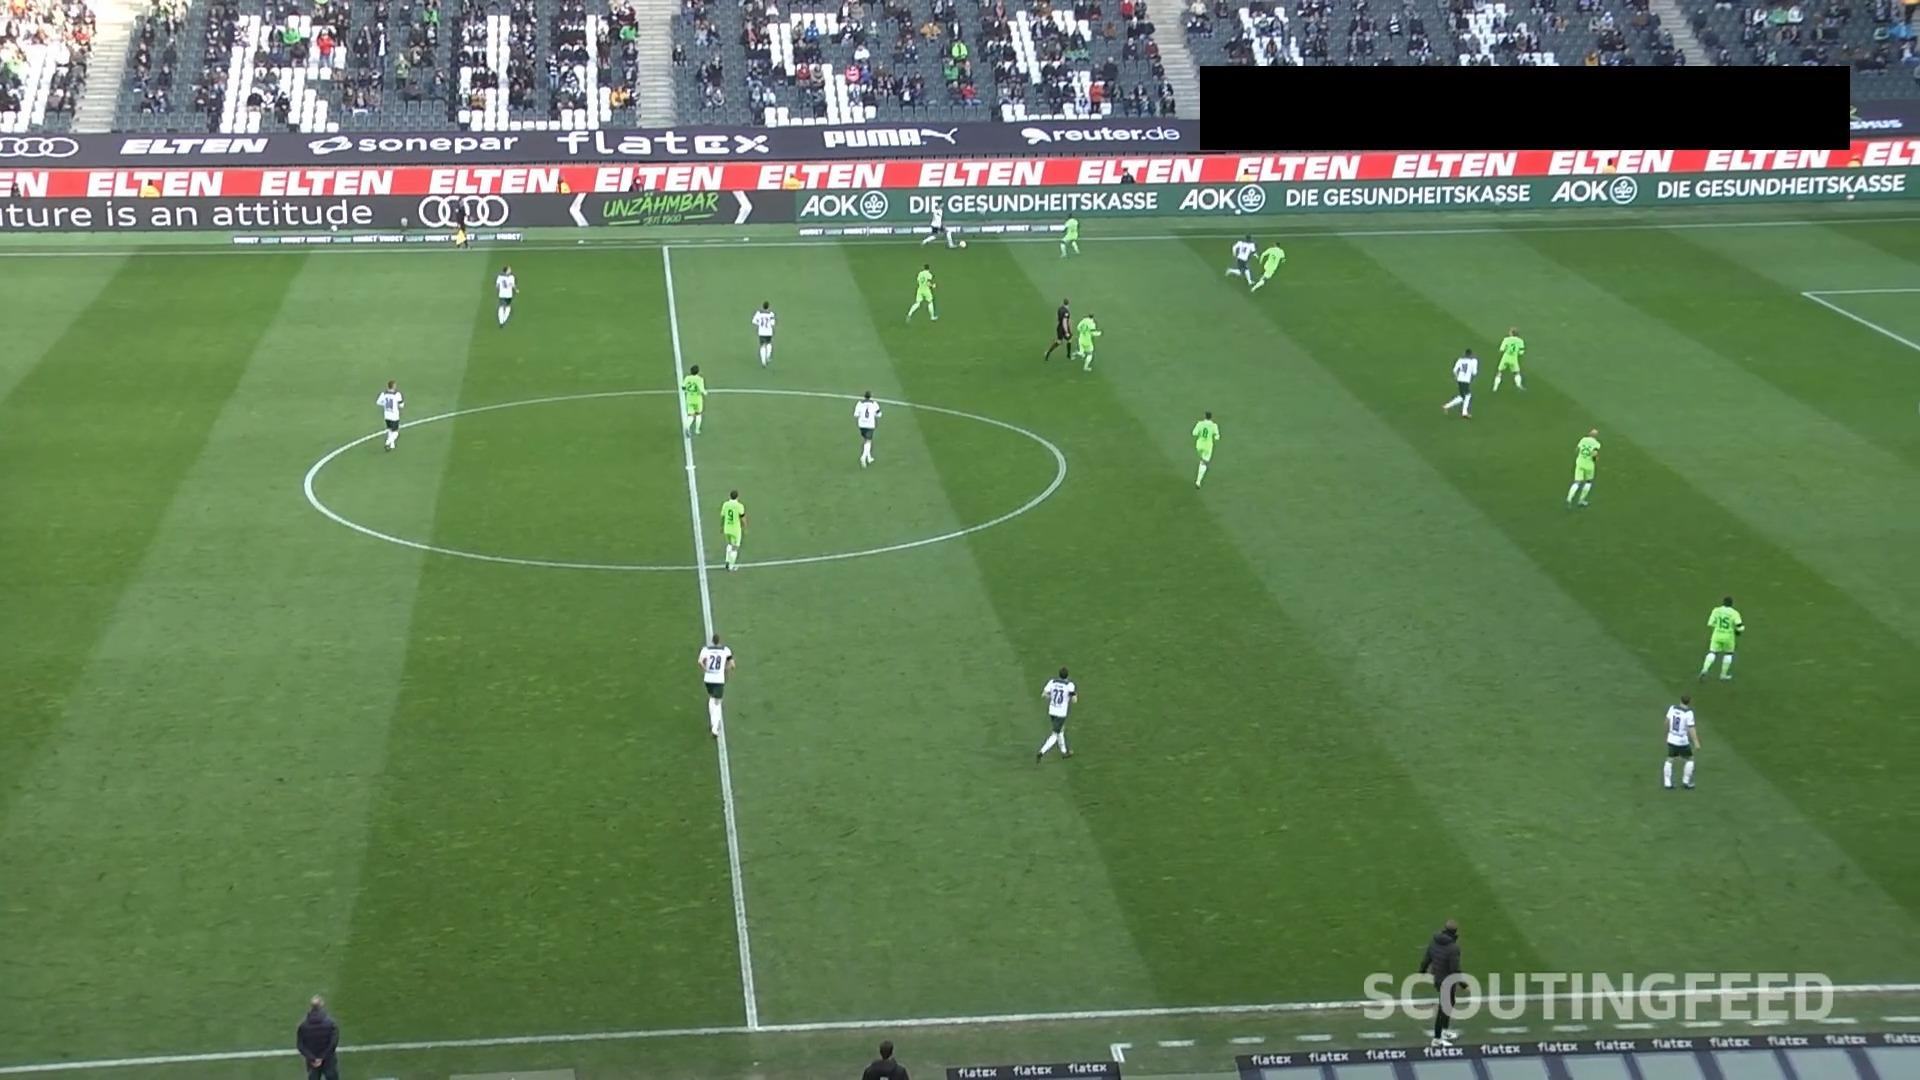ball: (957, 239, 968, 249)
